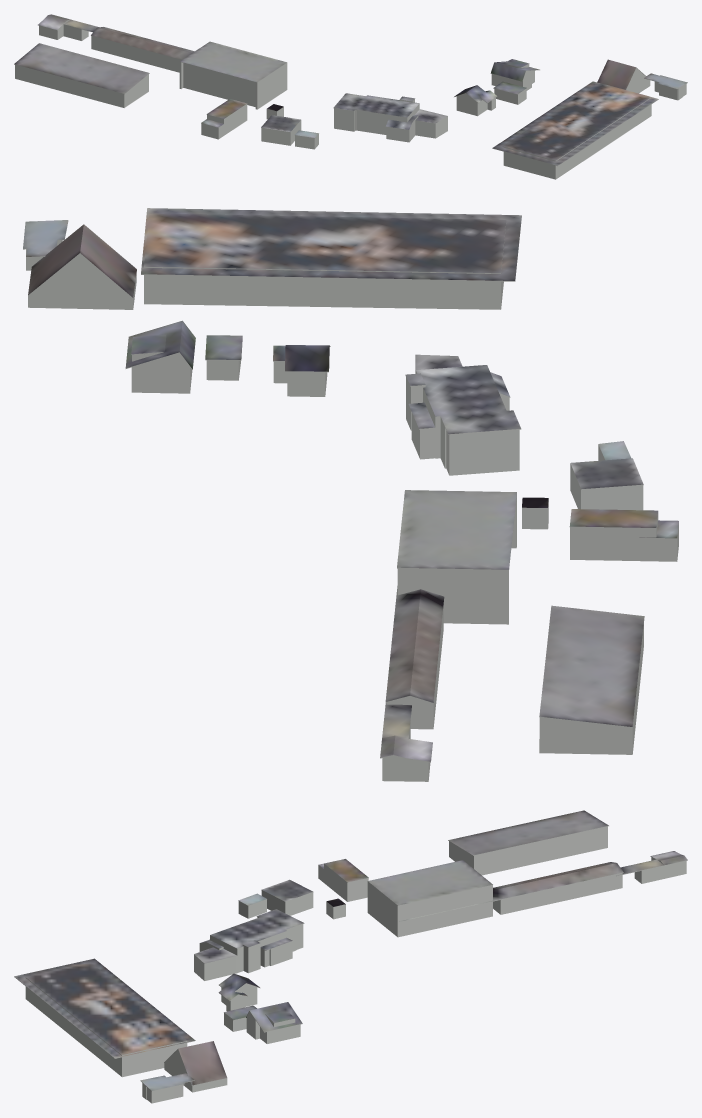
The model's file is LSZB_0_0.glb.
The picture shows the model from 3 angles, top to bottom: view 1: azimuth 30°, elevation 25°; view 2: azimuth 150°, elevation 25°; view 3: azimuth 270°, elevation 25°; orthographic projection. The views are drawn at different scales.
Parts seen in each view (by area): view 1: building_5046bdb63d08d200, building_7919e3a3f7370f1b, building_c8e345bd9de1fe91, building_2ba0f0525a03133e, building_a20f79d152610fd1, building_2bd1ea8049c82c0c, building_0cfae6885806838d, building_ed5aa74cb75ccc11; view 2: building_5046bdb63d08d200, building_7919e3a3f7370f1b, building_2ba0f0525a03133e, building_c8e345bd9de1fe91, building_2bd1ea8049c82c0c, building_ed5aa74cb75ccc11, building_a20f79d152610fd1, building_0cfae6885806838d; view 3: building_5046bdb63d08d200, building_c8e345bd9de1fe91, building_7919e3a3f7370f1b, building_2ba0f0525a03133e, building_a20f79d152610fd1, building_2bd1ea8049c82c0c, building_0cfae6885806838d, building_ed5aa74cb75ccc11.
Boxes of the visible parts, bbox=[...] form: building_5046bdb63d08d200: bbox=[333, 59, 687, 165]; building_7919e3a3f7370f1b: bbox=[14, 27, 287, 127]; building_c8e345bd9de1fe91: bbox=[15, 36, 287, 139]; building_2ba0f0525a03133e: bbox=[334, 64, 686, 179]; building_a20f79d152610fd1: bbox=[261, 120, 318, 149]; building_2bd1ea8049c82c0c: bbox=[261, 115, 318, 138]; building_0cfae6885806838d: bbox=[39, 20, 88, 40]; building_ed5aa74cb75ccc11: bbox=[38, 14, 98, 32]; building_5046bdb63d08d200: bbox=[23, 208, 521, 434]; building_7919e3a3f7370f1b: bbox=[385, 490, 678, 727]; building_2ba0f0525a03133e: bbox=[26, 223, 519, 475]; building_c8e345bd9de1fe91: bbox=[386, 496, 678, 754]; building_2bd1ea8049c82c0c: bbox=[570, 441, 643, 489]; building_ed5aa74cb75ccc11: bbox=[380, 702, 432, 762]; building_a20f79d152610fd1: bbox=[570, 445, 643, 510]; building_0cfae6885806838d: bbox=[382, 722, 430, 781]; building_5046bdb63d08d200: bbox=[14, 909, 304, 1091]; building_c8e345bd9de1fe91: bbox=[318, 826, 622, 937]; building_7919e3a3f7370f1b: bbox=[318, 810, 623, 921]; building_2ba0f0525a03133e: bbox=[25, 917, 303, 1103]; building_a20f79d152610fd1: bbox=[238, 890, 313, 918]; building_2bd1ea8049c82c0c: bbox=[238, 879, 313, 906]; building_0cfae6885806838d: bbox=[634, 857, 686, 883]; building_ed5aa74cb75ccc11: bbox=[616, 851, 687, 876].
Bounding box in the file's own units: 262 × 15.08 × 268.
2 materials, 1 textured.
